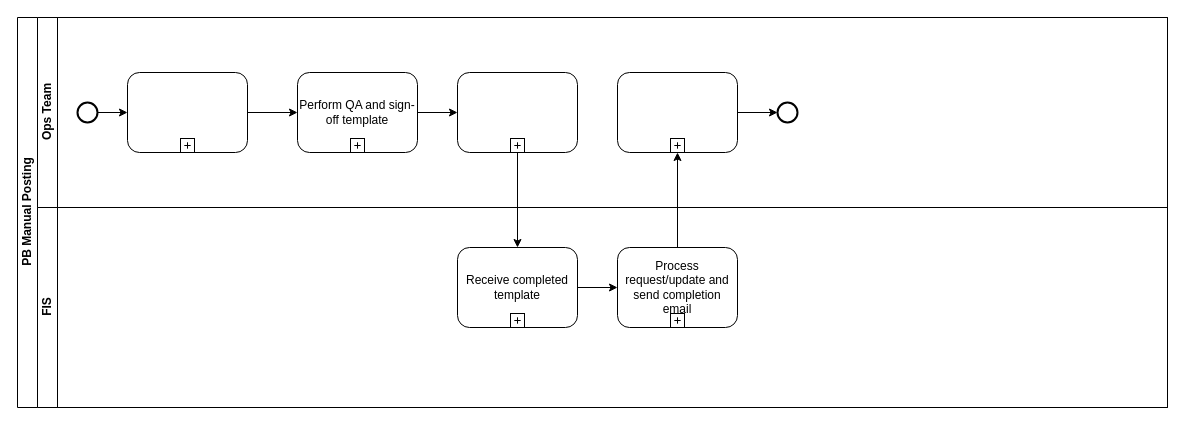
The diagram is 1185 pixels wide and 425 high, and some of its shapes have lost their labels. The box of each missing label's shape, as (x1, y1, x2, y2) in pixels:
Email and Fax completed template: (456, 72, 578, 152)
Prepare appropriate template: (126, 72, 248, 152)
Review completed Posting: (616, 72, 738, 152)
